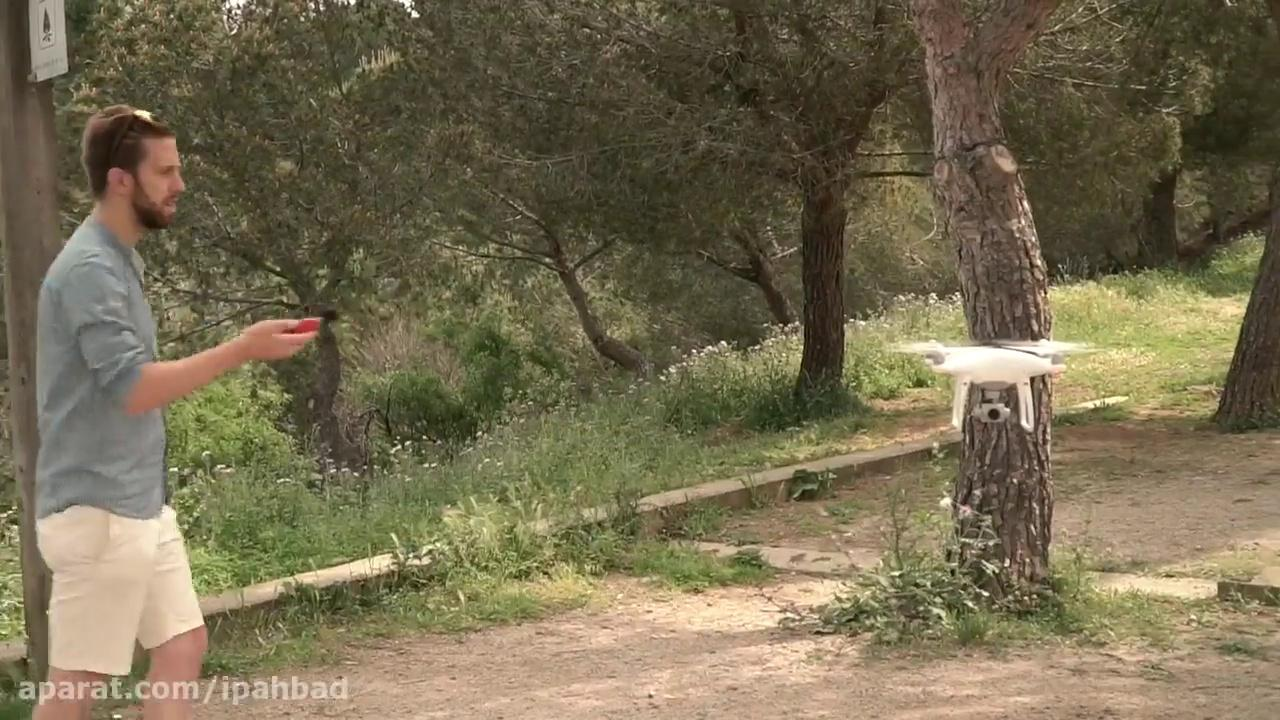drone: (890, 336, 1099, 431)
